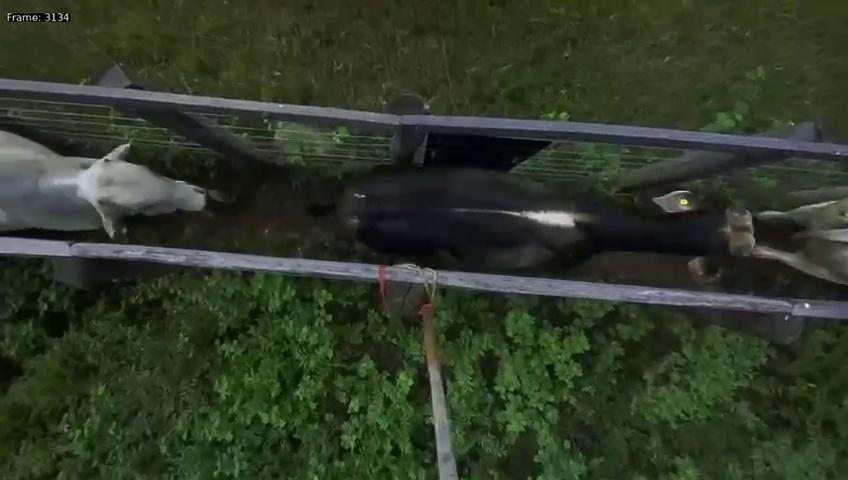cattle: (333, 154, 765, 298)
